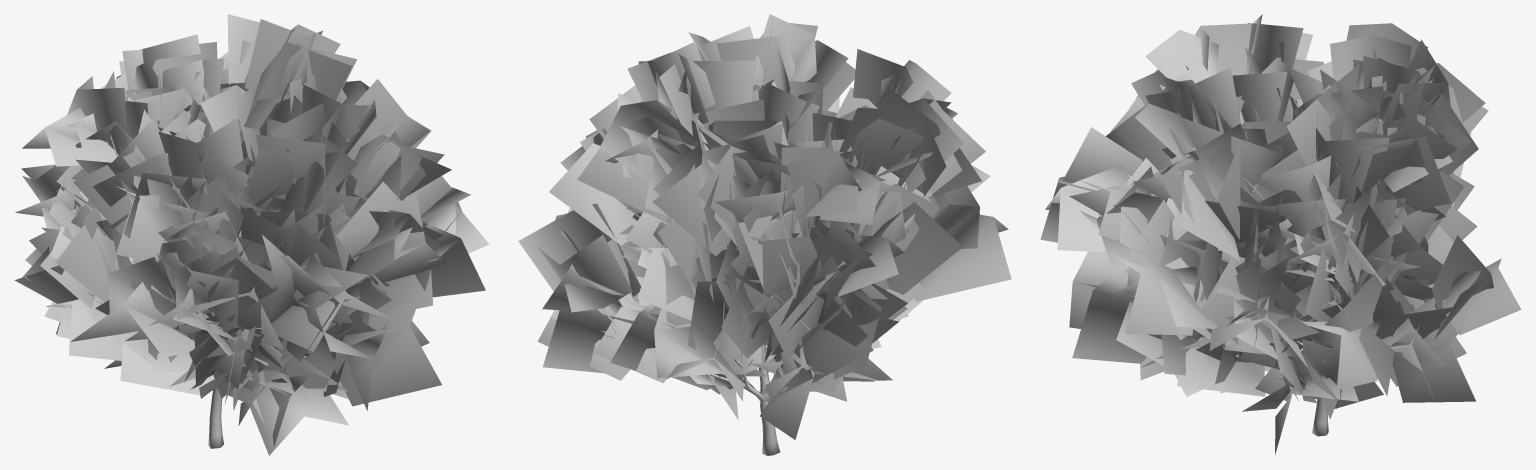
The model's file is BeechAmerican_E.fbx.
The picture shows the model from 3 angles, left to right: view 1: azimuth 30°, elevation 25°; view 2: azimuth 150°, elevation 25°; view 3: azimuth 270°, elevation 25°; orthographic projection. The views are drawn at different scales.
Visible parts, largest first — view 1: BeechAmerican_E_LOD0; view 2: BeechAmerican_E_LOD0; view 3: BeechAmerican_E_LOD0.
Boxes of the visible parts, left/top/right/bottom form: BeechAmerican_E_LOD0: left=14, top=14, right=489, bottom=455; BeechAmerican_E_LOD0: left=518, top=14, right=1011, bottom=455; BeechAmerican_E_LOD0: left=1040, top=14, right=1521, bottom=454.
Bounding box in the file's own units: 1578 × 1434 × 1559.
